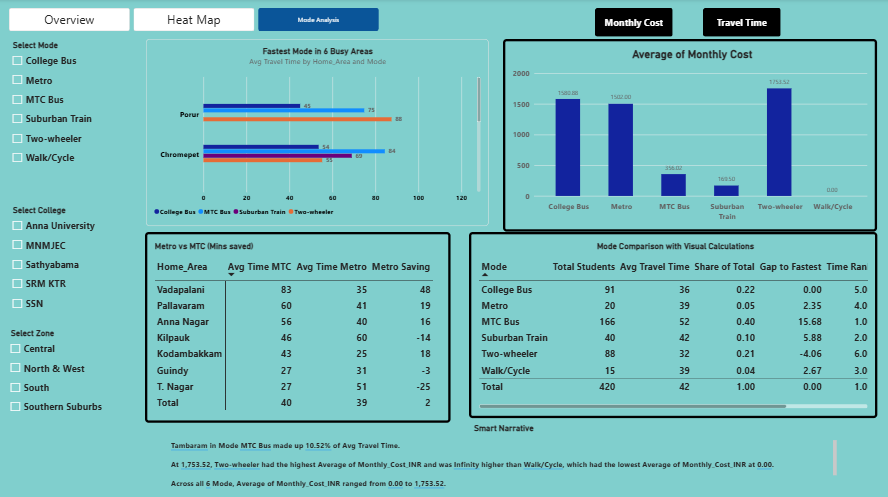

Layout of this report page (visuals, bound fields, positions):
{"tool":"powerbi","page":{"name":"Mode Analysis","canvas":[1920,1080],"ordinal":2},"visuals":[{"type":"clusteredBarChart","title":"Fastest Mode in 6 Busy Areas","fields":{"Category":["Areas.Home_Area"],"Series":["Modes.Mode"],"Y":["_Measures.Avg Travel Time"]},"box":[314.3,85.7,740,404],"z":0},{"type":"pivotTable","title":"Metro vs MTC (Mins saved)","fields":{"Rows":["Areas.Home_Area"],"Values":["_Measures.Avg Time MTC","_Measures.Avg Time Metro","_Measures.Metro Saving"]},"box":[314,504,660,412],"z":1000},{"type":"tableEx","title":"Mode Comparison with Visual Calculations","fields":{"Values":["Modes.Mode","_Measures.Total Students","_Measures.Avg Travel Time","select","select1","select2","select3"]},"box":[1012,504,882,402],"z":2000},{"type":"textbox","title":"Smart Narrative","box":[370,916,1438,142],"z":3000},{"type":"slicer","fields":{"Values":["Modes.Mode"]},"box":[20,88,211.7,275.1],"z":4000},{"type":"slicer","fields":{"Values":["Colleges.College"]},"box":[20,446,211.7,242.5],"z":5000},{"type":"slicer","fields":{"Values":["Areas.Zone"]},"box":[16,710,215.3,215.3],"z":6000},{"type":"pageNavigator","box":[19.9,19.9,800,50],"z":7000},{"type":"clusteredColumnChart","title":"Average of Monthly Cost","fields":{"Category":["Modes.Mode"],"Y":["Avg(Student Data.Monthly_Cost_INR)"]},"box":[1086,86,808,416],"z":8000},{"type":"actionButton","box":[1286,20,168,62],"z":10000},{"type":"actionButton","box":[1518,20,168,62],"z":11000}]}

Visuals, with their boxes in screenshot pixels (x1, y1, x2, y2), scaled from the page's 1920x1080 canvas onto the 888x497 screenshot:
"Fastest Mode in 6 Busy Areas" clusteredBarChart: rect(145, 39, 488, 225)
"Metro vs MTC (Mins saved)" pivotTable: rect(145, 232, 450, 422)
"Mode Comparison with Visual Calculations" tableEx: rect(468, 232, 876, 417)
"Smart Narrative" textbox: rect(171, 422, 836, 487)
slicer - Modes.Mode: rect(9, 40, 107, 167)
slicer - Colleges.College: rect(9, 205, 107, 317)
slicer - Areas.Zone: rect(7, 327, 107, 426)
pageNavigator: rect(9, 9, 379, 32)
"Average of Monthly Cost" clusteredColumnChart: rect(502, 40, 876, 231)
actionButton: rect(595, 9, 672, 38)
actionButton: rect(702, 9, 780, 38)
